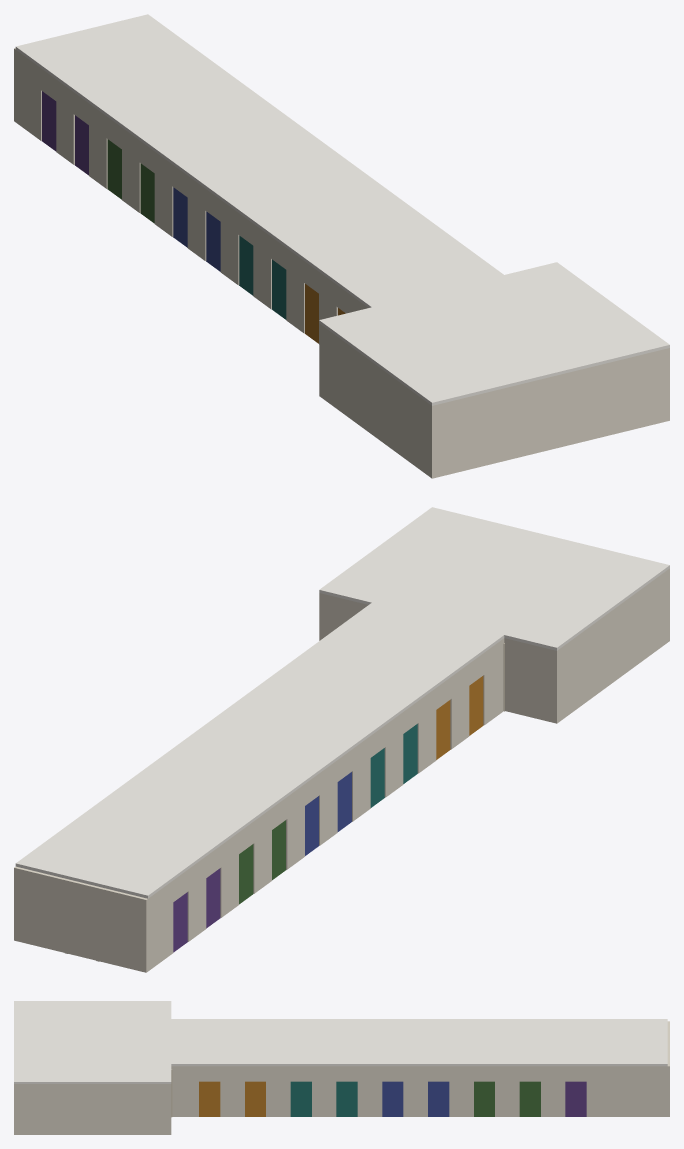
File: the-office.glb
3 views of the same model, one above another, from view 1: azimuth 30°, elevation 25°; view 2: azimuth 150°, elevation 25°; view 3: azimuth 270°, elevation 25° (orthographic). The views are drawn at different scales.
Parts seen in each view (by area): view 1: ROOF_corridor, walls, ROOF_office, door_leaf_door_3, door_leaf_door_2, door_leaf_door_1, door_leaf_door_4, door_leaf_door_0; view 2: ROOF_corridor, walls, ROOF_office, door_leaf_door_4, door_leaf_door_0, door_leaf_door_1, door_leaf_door_3, door_leaf_door_2; view 3: walls, ROOF_corridor, ROOF_office, door_leaf_door_1, door_leaf_door_2, door_leaf_door_0, door_leaf_door_3, door_leaf_door_4.
Boxes of the visible parts, x1,y1,x2,y2 form: ROOF_corridor: (15, 14, 503, 308); walls: (14, 48, 669, 478); ROOF_office: (319, 262, 669, 405); door_leaf_door_3: (107, 139, 154, 223); door_leaf_door_2: (173, 187, 220, 271); door_leaf_door_1: (239, 235, 286, 319); door_leaf_door_4: (42, 91, 88, 175); door_leaf_door_0: (305, 284, 345, 343); ROOF_corridor: (15, 601, 505, 898); walls: (14, 568, 669, 972); ROOF_office: (319, 507, 669, 650); door_leaf_door_4: (173, 868, 220, 952); door_leaf_door_0: (436, 676, 483, 759); door_leaf_door_1: (370, 724, 417, 807); door_leaf_door_3: (239, 820, 286, 904); door_leaf_door_2: (305, 772, 351, 855); walls: (14, 1021, 669, 1134); ROOF_corridor: (169, 1019, 667, 1066); ROOF_office: (14, 1001, 171, 1083); door_leaf_door_1: (290, 1081, 357, 1116); door_leaf_door_2: (382, 1081, 449, 1116); door_leaf_door_0: (199, 1081, 265, 1116); door_leaf_door_3: (474, 1081, 540, 1116); door_leaf_door_4: (565, 1081, 586, 1116).
Bounding box in the file's own units: 11.28 × 3.54 × 38.68.
